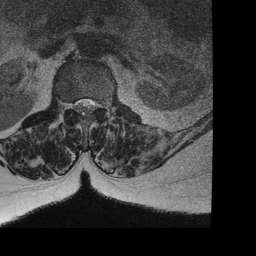CCS_normal: (81, 88, 89, 124)
LFS_normal: (96, 89, 104, 117)
LLS_normal: (89, 89, 97, 119)
RFS_normal: (65, 91, 73, 116)
RLS_normal: (73, 91, 81, 119)
